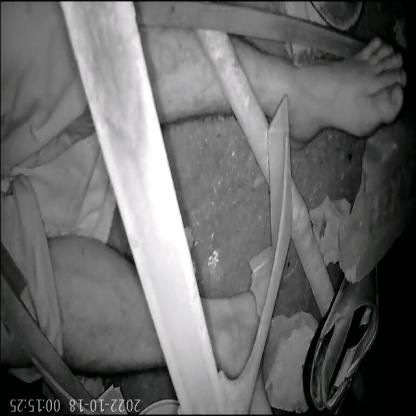leg: (40, 224, 283, 416), (133, 27, 415, 155)
